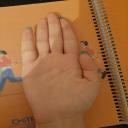OpenPalm: (21, 12, 100, 122)
